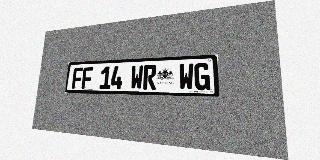1: (99, 66, 112, 89)
4: (110, 66, 123, 89)
F: (81, 67, 93, 89), (72, 67, 83, 89)
G: (194, 62, 210, 90)
R: (143, 64, 156, 90)
W: (179, 63, 194, 90), (130, 65, 143, 89)
